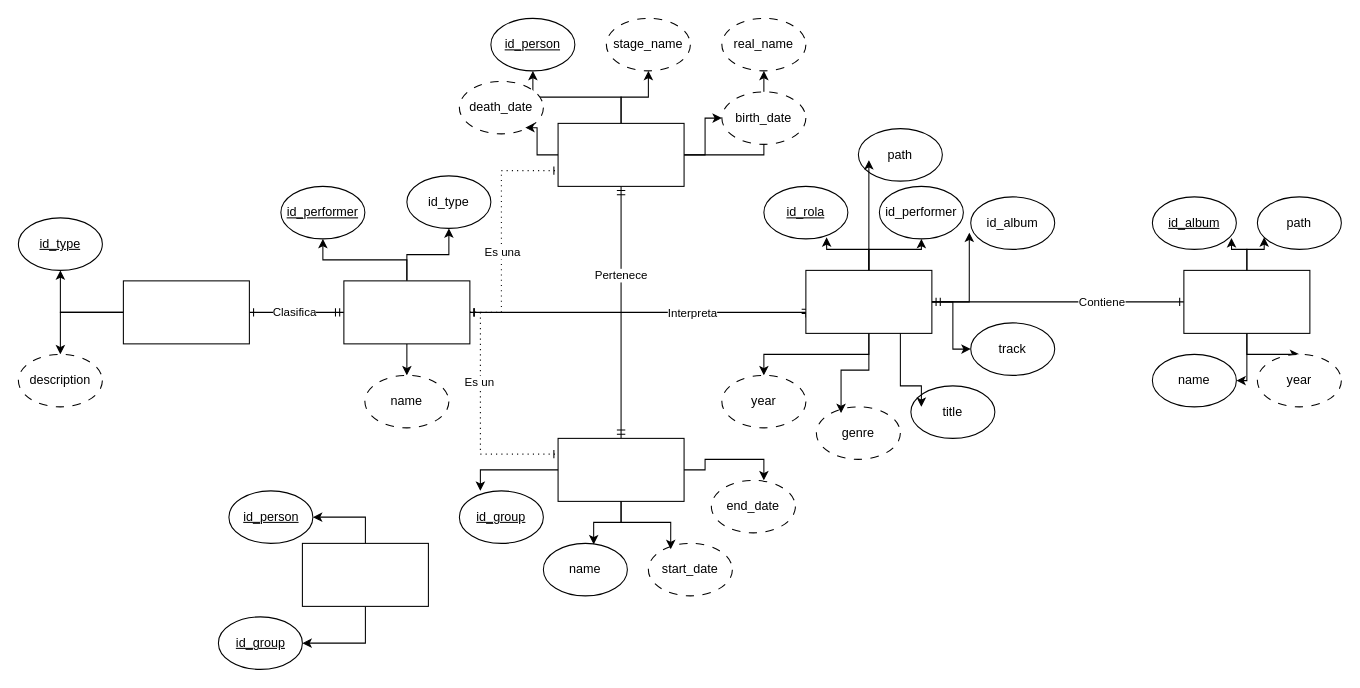
This 1360x688 diagram has some shape labels left out. Each missing label, with the centre of its shape:
Album: point (1246, 301)
Group: point (620, 469)
InGroup: point (364, 574)
Performer: point (406, 312)
Person: point (620, 154)
Rola: point (868, 301)
Type: point (185, 312)
